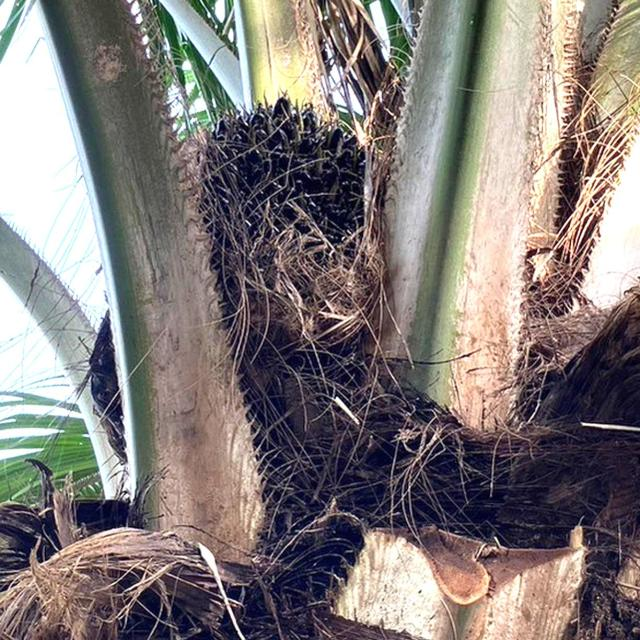unripe: (166, 79, 403, 363)
